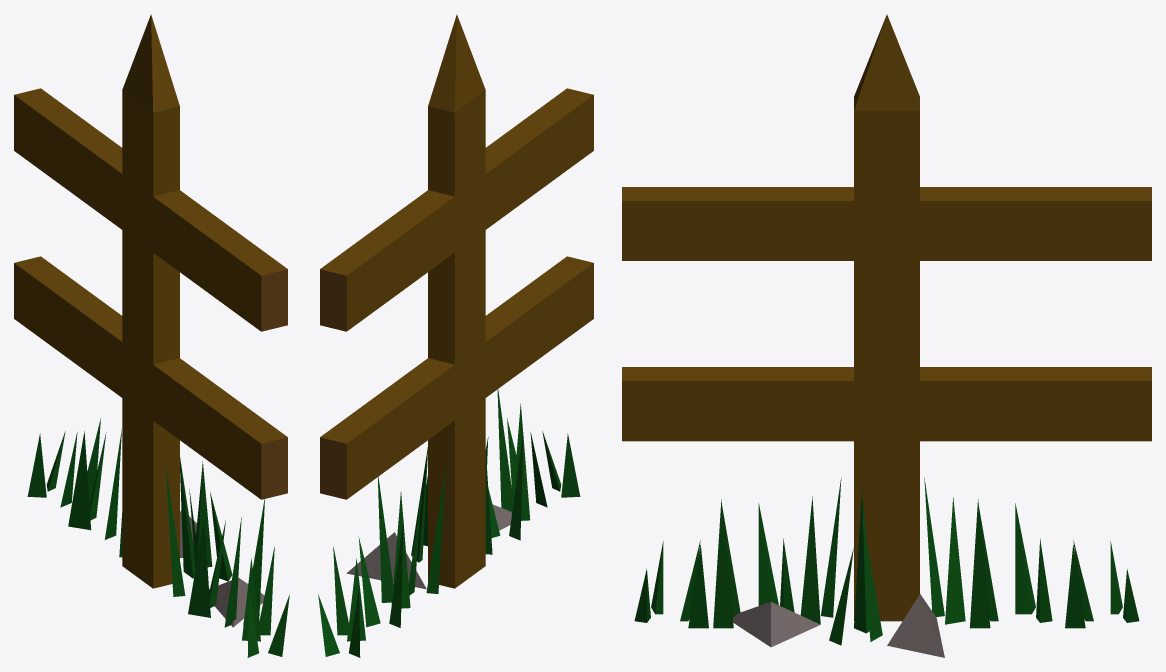
3 renders of one model, left to right at view 1: azimuth 30°, elevation 25°; view 2: azimuth 150°, elevation 25°; view 3: azimuth 270°, elevation 25°, orthographic. The views are drawn at different scales.
Bounding box in the file's own units: 0.2266 × 1.25 × 1.
